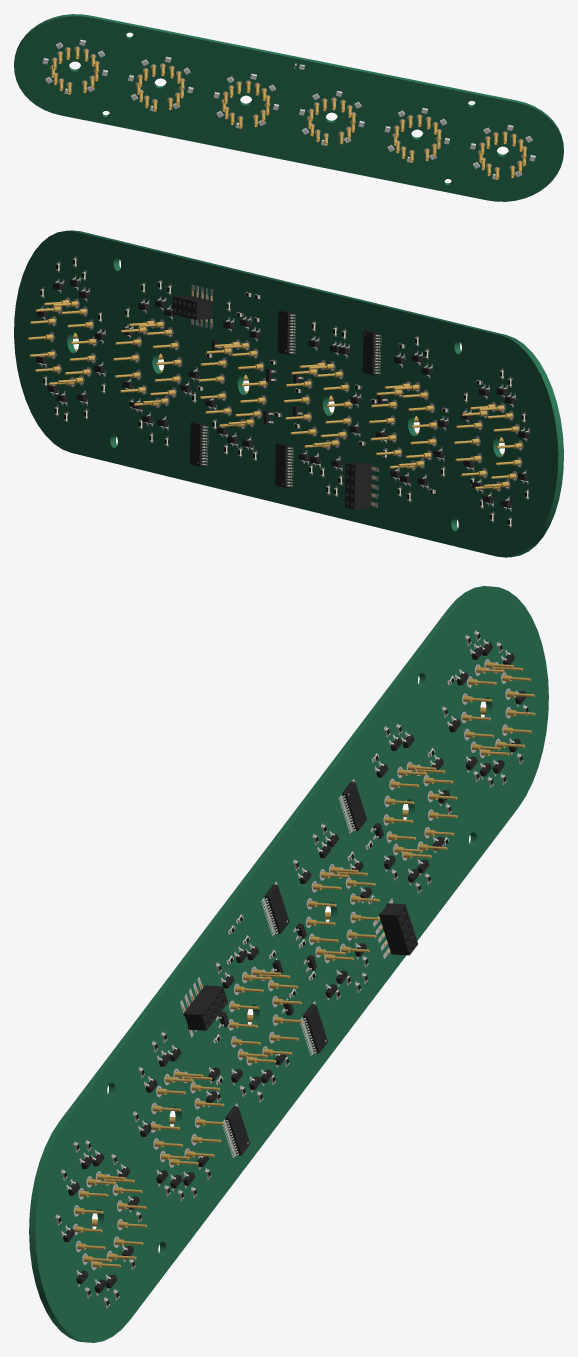
File: display_board.glb
The picture shows the model from 3 angles, top to bottom: view 1: azimuth 30°, elevation 25°; view 2: azimuth 150°, elevation 25°; view 3: azimuth 270°, elevation 25°; orthographic projection. The views are drawn at different scales.
Visible parts, largest first — view 1: display_=>[0:1:1:69].001, display_=>[0:1:1:68].001; view 2: display_=>[0:1:1:69].001, display_=>[0:1:1:68].001, display_J1.001, display_J3.001, display_U3.001, display_U2.001, display_U1.001, display_U4.001; view 3: display_=>[0:1:1:69].001, display_=>[0:1:1:68].001, display_J1.001, display_J3.001.
Part boxes in pixels (box(x1,y1,x2,y2)): display_=>[0:1:1:69].001: box(14, 14, 563, 201); display_=>[0:1:1:68].001: box(44, 39, 535, 176); display_=>[0:1:1:69].001: box(14, 230, 563, 557); display_=>[0:1:1:68].001: box(41, 256, 529, 527); display_J1.001: box(345, 462, 374, 509); display_J3.001: box(172, 291, 212, 322); display_U3.001: box(275, 443, 292, 487); display_U2.001: box(277, 310, 294, 354); display_U1.001: box(362, 330, 379, 375); display_U4.001: box(190, 421, 207, 466); display_=>[0:1:1:69].001: box(29, 586, 548, 1342); display_=>[0:1:1:68].001: box(55, 630, 526, 1308); display_J1.001: box(376, 903, 417, 955); display_J3.001: box(182, 983, 227, 1031).
Size of the model in its own units: 1.74 by 0.802 by 0.9237.
